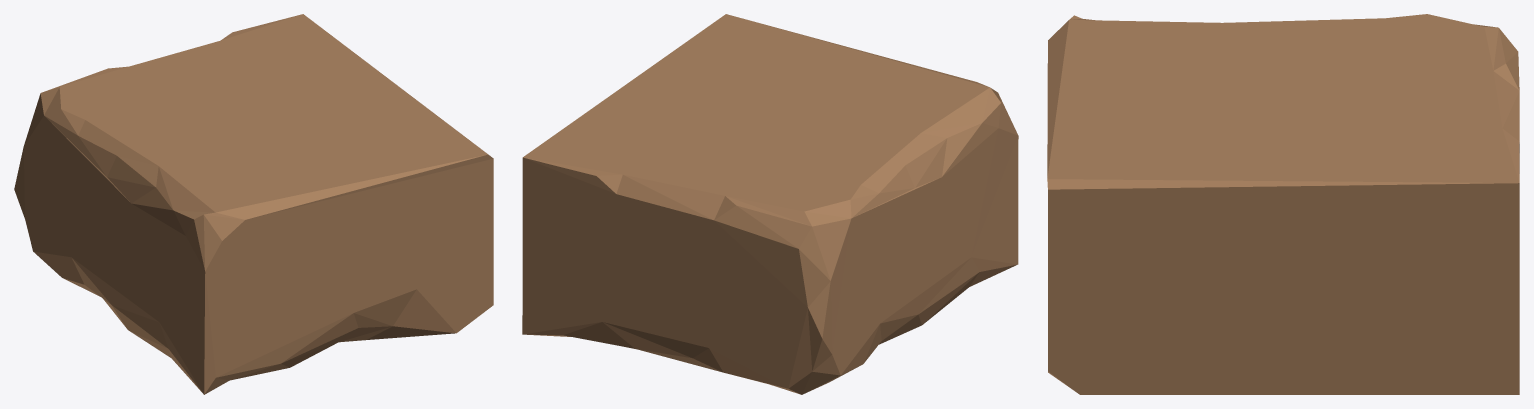
File: SM_large_brick_03.fbx
3 renders of one model, left to right at view 1: azimuth 30°, elevation 25°; view 2: azimuth 150°, elevation 25°; view 3: azimuth 270°, elevation 25°, orthographic. The views are drawn at different scales.
Visible parts, largest first — view 1: large_brick_03; view 2: large_brick_03; view 3: large_brick_03.
Part boxes in pixels (x1=…): large_brick_03: x1=14, y1=14, x2=493, y2=394; large_brick_03: x1=522, y1=14, x2=1018, y2=394; large_brick_03: x1=1047, y1=14, x2=1519, y2=394.
Bounding box in the file's own units: 142 × 80.84 × 162.
